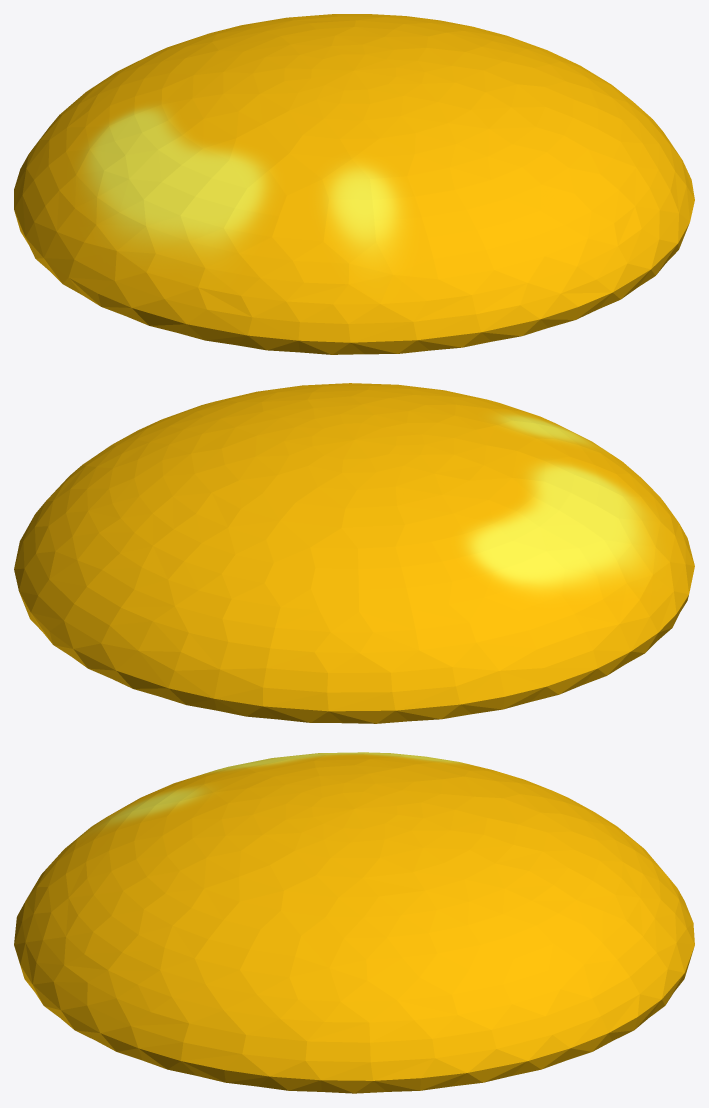
Rendered from nest.obj.
3 views of the same model, one above another, from view 1: azimuth 30°, elevation 25°; view 2: azimuth 150°, elevation 25°; view 3: azimuth 270°, elevation 25° (orthographic).
Parts seen in each view (by area): view 1: 球; view 2: 球; view 3: 球.
Part boxes in pixels (x1,y1,x2,y2): 球: (14,14,694,354); 球: (14,383,694,723); 球: (14,752,694,1093).
Size of the model in its own units: 1.94 by 0.4969 by 1.94.
